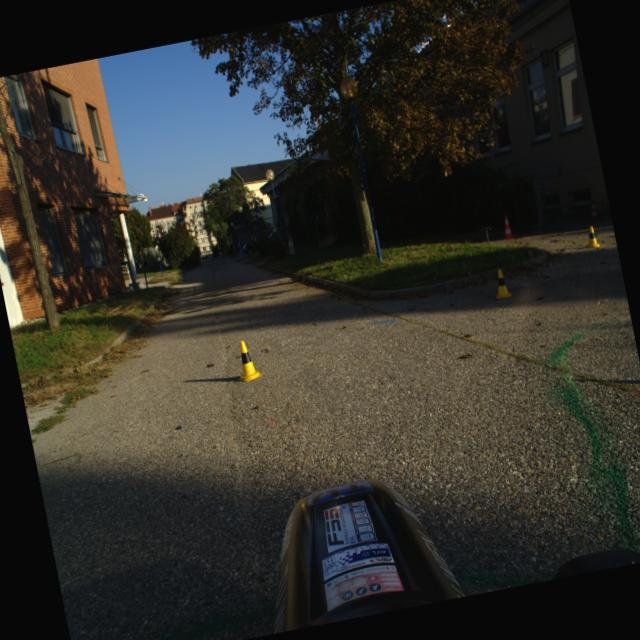large_orange_cone: (498, 214, 514, 240), (586, 198, 602, 224)
yellow_cone: (231, 337, 263, 383), (491, 266, 512, 300), (582, 223, 600, 250)
